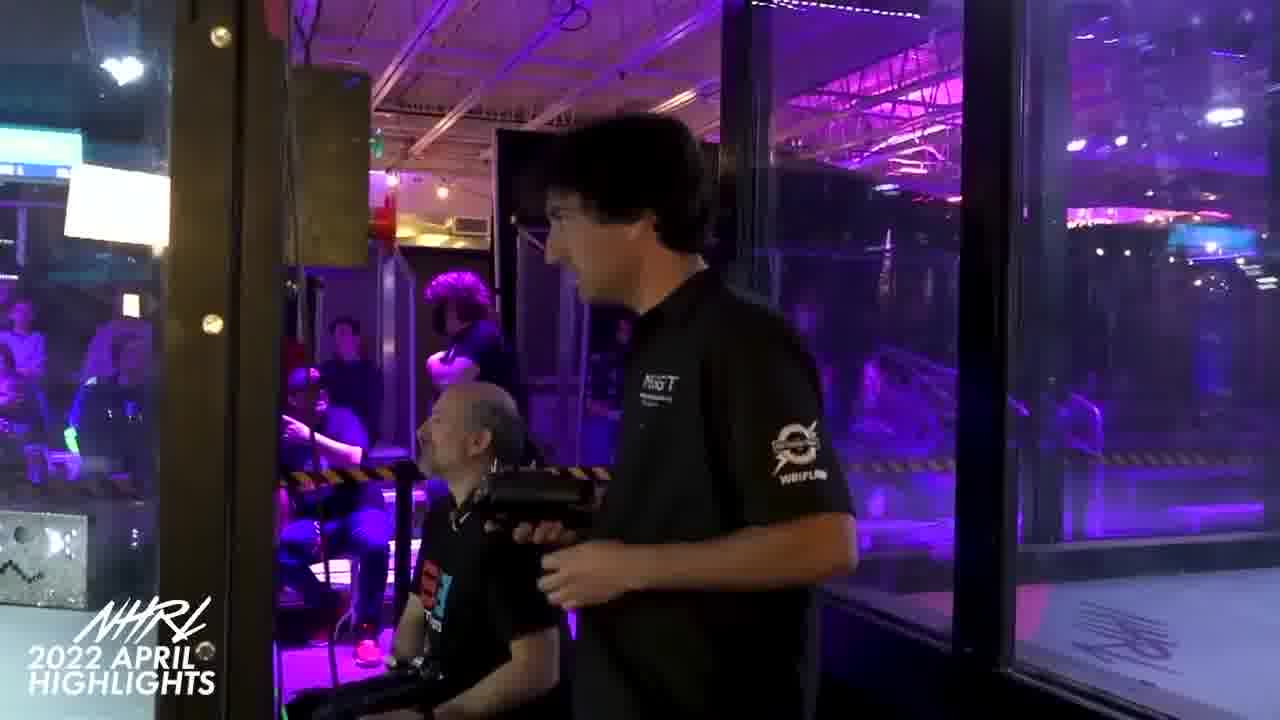housebot: (1, 505, 159, 612)
